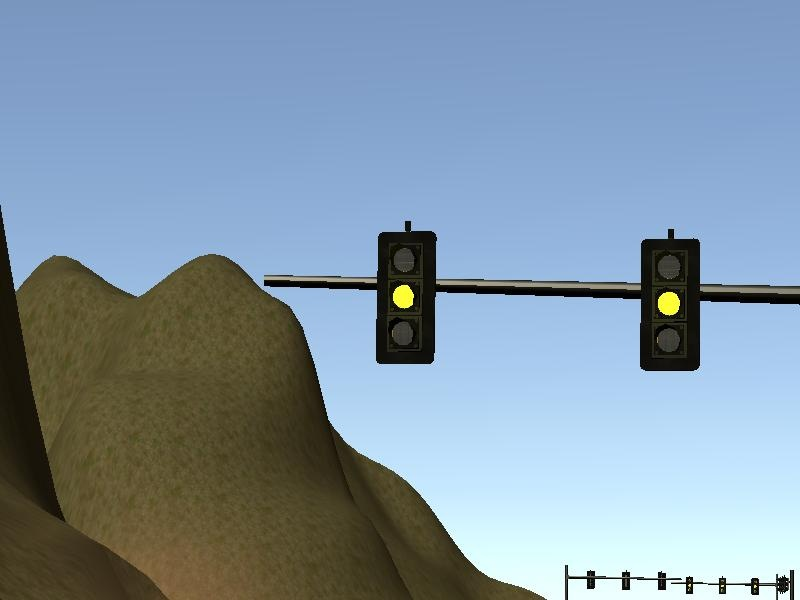YELLOW: (637, 238, 702, 374), (373, 228, 438, 364)
